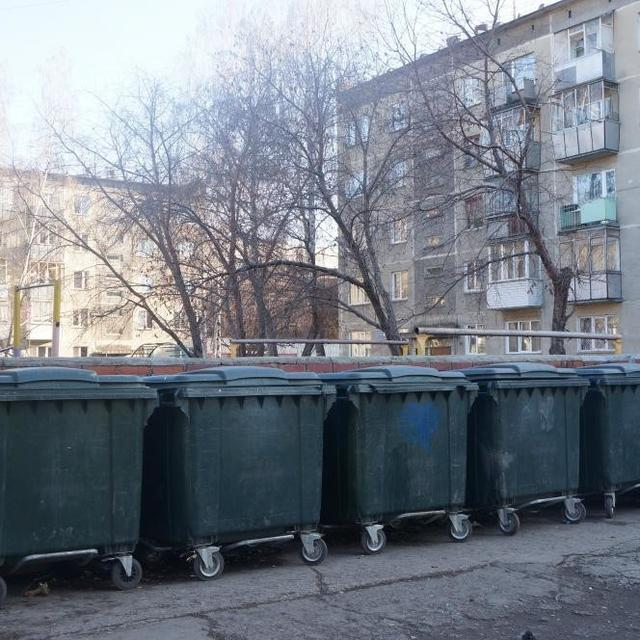Trash_Can_Closed: (149, 366, 329, 543), (0, 367, 161, 556), (322, 365, 477, 523), (462, 362, 591, 509), (577, 361, 640, 491)
